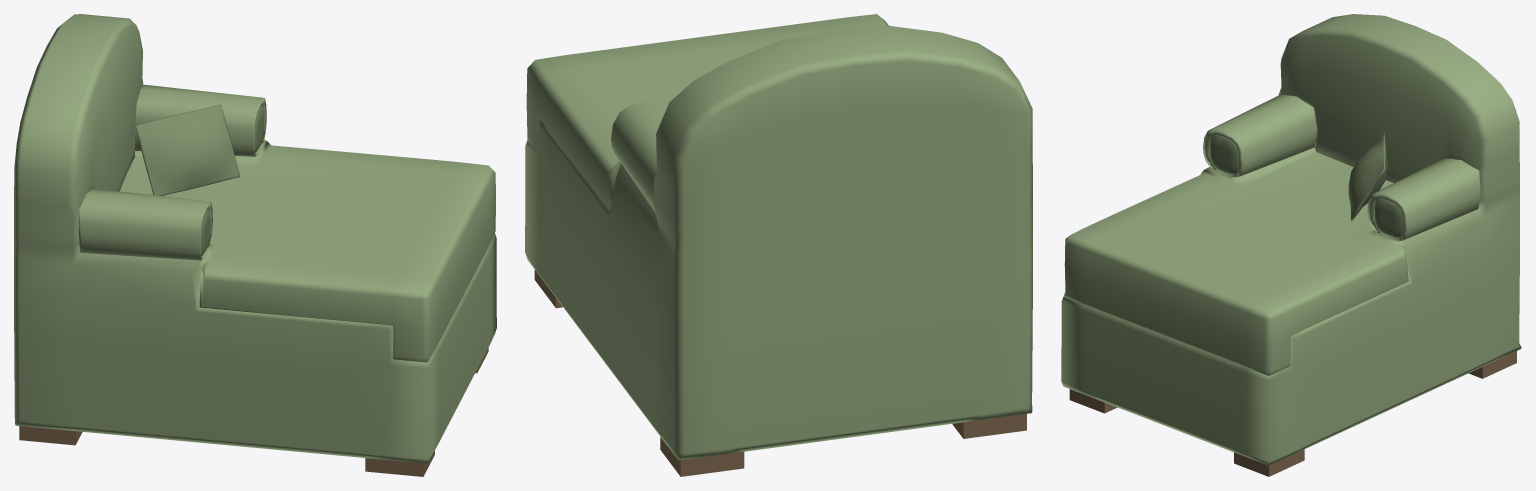
File: recliner_lp.fbx
The picture shows the model from 3 angles, left to right: view 1: azimuth 30°, elevation 25°; view 2: azimuth 150°, elevation 25°; view 3: azimuth 270°, elevation 25°; orthographic projection. The views are drawn at different scales.
Visible parts, largest first — view 1: cushionedChair_lp; view 2: cushionedChair_lp; view 3: cushionedChair_lp.
Boxes of the visible parts, x1,y1,x2,y2 form: cushionedChair_lp: (14,14,496,476); cushionedChair_lp: (525,14,1032,476); cushionedChair_lp: (1061,14,1521,476).
Size of the model in its own units: 1.45 by 1.03 by 1.43.
